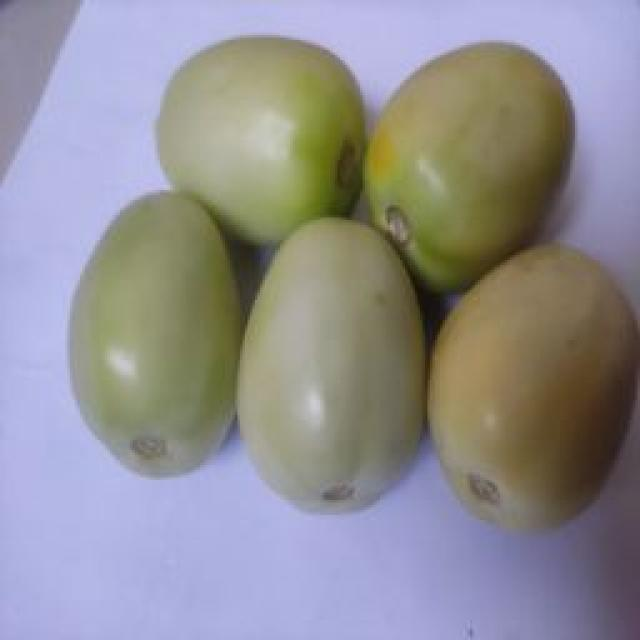unripe tomato: (431, 245, 638, 532), (237, 218, 422, 517), (368, 43, 574, 287), (68, 194, 240, 477), (158, 35, 364, 248)
